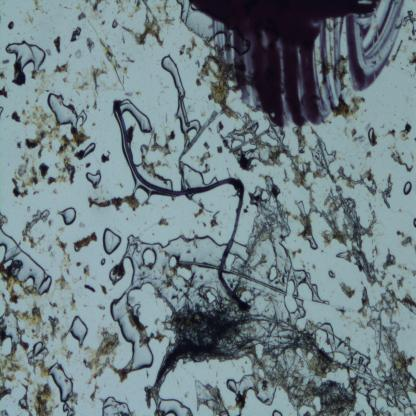Air bubble: (110, 291, 153, 374), (0, 228, 51, 294), (160, 55, 201, 132), (122, 233, 223, 264), (279, 252, 330, 304), (47, 93, 88, 130), (6, 41, 45, 73), (121, 99, 152, 134), (48, 363, 73, 404), (322, 364, 352, 390), (157, 396, 194, 416), (69, 312, 89, 346), (100, 396, 132, 416), (1, 312, 21, 344), (314, 326, 334, 354), (353, 391, 376, 414), (184, 164, 206, 187), (102, 228, 121, 253), (60, 206, 77, 227), (329, 347, 348, 365), (141, 249, 157, 267), (86, 171, 102, 189), (176, 265, 192, 281), (304, 234, 319, 250), (254, 340, 266, 360), (82, 142, 96, 156), (401, 180, 413, 196), (256, 365, 267, 381), (269, 266, 279, 283), (32, 340, 42, 356), (108, 274, 121, 286), (206, 290, 216, 304), (168, 256, 178, 270), (367, 128, 374, 140), (0, 106, 5, 120), (272, 410, 282, 416), (111, 20, 117, 29), (101, 256, 106, 266), (413, 217, 416, 228)
Background material: (142, 282, 262, 406), (253, 308, 354, 416), (294, 188, 382, 287), (355, 286, 416, 414), (307, 126, 378, 195), (245, 172, 296, 258), (224, 115, 290, 171), (194, 60, 238, 123), (83, 331, 122, 400), (122, 0, 164, 50), (18, 296, 60, 345), (326, 88, 369, 131), (10, 157, 49, 199), (22, 108, 54, 155), (100, 39, 129, 90), (74, 65, 109, 106), (52, 132, 75, 186), (21, 208, 52, 248), (0, 344, 22, 399), (0, 267, 23, 305), (87, 193, 141, 208), (31, 379, 54, 413), (290, 156, 312, 191), (388, 144, 414, 172), (142, 139, 163, 173), (151, 130, 176, 157), (54, 235, 70, 275), (27, 350, 51, 376), (292, 127, 309, 157), (398, 11, 416, 38), (73, 233, 97, 253), (32, 74, 50, 100), (12, 56, 26, 88), (381, 174, 394, 208), (52, 276, 72, 296), (344, 126, 366, 144), (70, 128, 90, 147), (180, 36, 196, 59), (382, 247, 397, 270), (339, 281, 356, 300), (190, 198, 206, 218), (20, 381, 29, 411), (47, 174, 69, 186), (68, 291, 79, 314), (162, 10, 176, 28), (399, 124, 412, 142), (52, 36, 63, 57), (397, 231, 412, 246), (54, 61, 70, 74), (70, 26, 82, 43), (210, 210, 221, 228), (239, 201, 253, 215), (198, 151, 212, 164), (408, 51, 416, 72), (115, 1, 126, 16), (0, 211, 9, 229), (86, 37, 96, 53), (62, 346, 72, 362), (10, 110, 20, 124), (101, 151, 111, 165), (396, 275, 405, 290), (74, 150, 85, 162), (383, 127, 396, 137), (34, 0, 44, 12), (0, 84, 8, 99), (26, 11, 34, 25), (92, 1, 102, 12), (82, 263, 90, 276), (86, 283, 96, 293), (100, 284, 108, 296), (78, 9, 86, 21), (158, 217, 168, 226), (74, 48, 82, 59), (328, 269, 336, 280), (0, 68, 6, 82), (217, 121, 223, 135), (1, 58, 10, 66), (7, 21, 14, 31), (16, 139, 22, 149), (62, 76, 70, 83), (124, 91, 133, 97), (46, 48, 52, 56), (76, 260, 82, 268), (85, 162, 91, 168)
Diatom: (203, 141, 210, 150), (216, 146, 223, 154)
Microfibre: (116, 104, 250, 314)
Pen: (190, 1, 402, 128)
